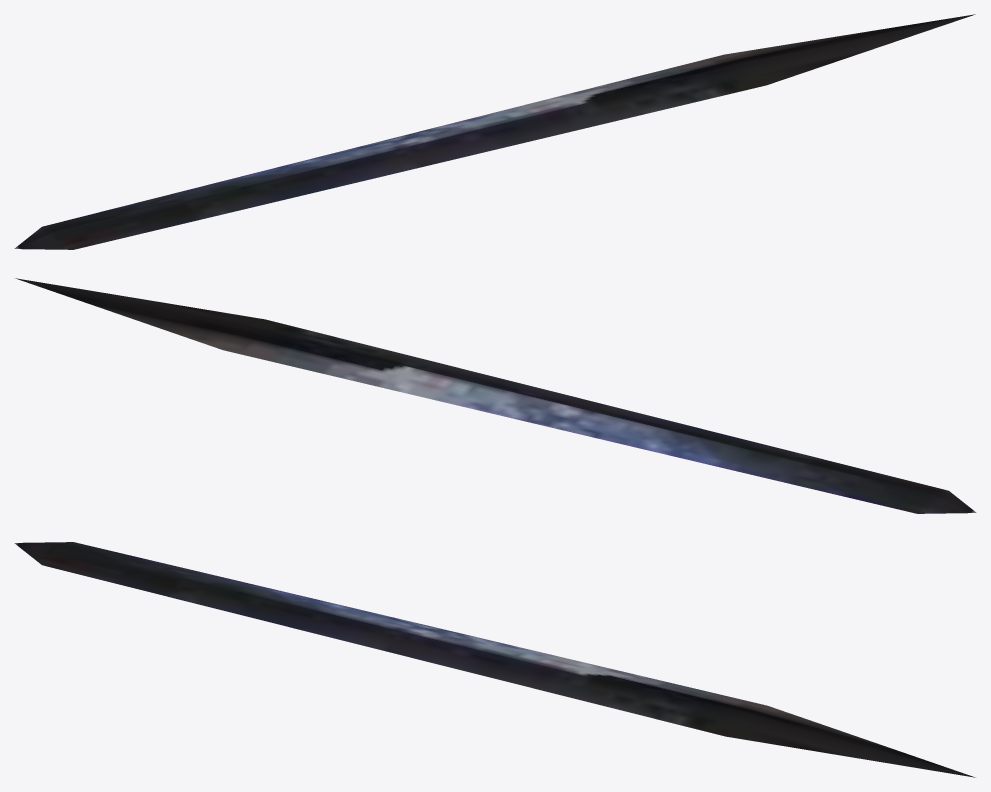
Rendered from NIENAOSTRZONE_ZELAZNE_OSTRZE.glb.
3 renders of one model, top to bottom at view 1: azimuth 30°, elevation 25°; view 2: azimuth 150°, elevation 25°; view 3: azimuth 330°, elevation 25°, orthographic.
Parts seen in each view (by area): view 1: NIENAOSTRZONE_ZELAZNE_OSTRZE; view 2: NIENAOSTRZONE_ZELAZNE_OSTRZE; view 3: NIENAOSTRZONE_ZELAZNE_OSTRZE.
Part boxes in pixels (bbox=[...]): NIENAOSTRZONE_ZELAZNE_OSTRZE: bbox=[14, 14, 975, 249]; NIENAOSTRZONE_ZELAZNE_OSTRZE: bbox=[15, 278, 976, 513]; NIENAOSTRZONE_ZELAZNE_OSTRZE: bbox=[14, 542, 975, 777].
Size of the model in its own units: 1.05 by 0.016 by 0.08.
1 material, 1 textured.
